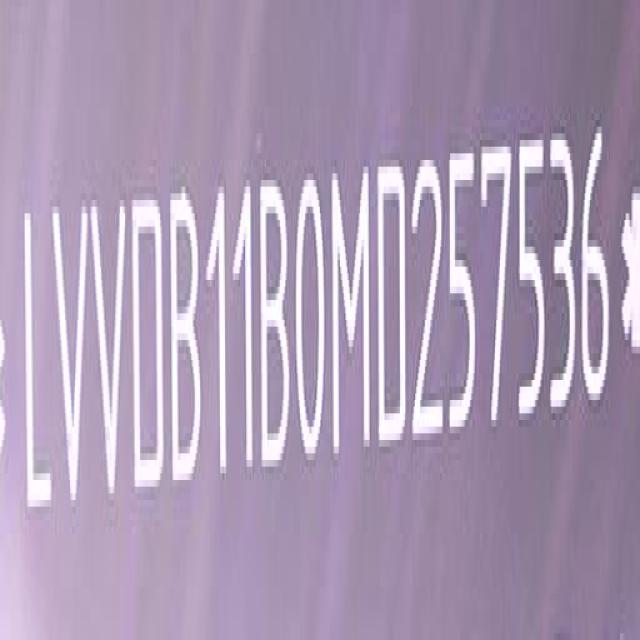0: (296, 170, 329, 471)
1: (208, 184, 233, 488), (236, 179, 256, 485)
2: (412, 152, 446, 458)
3: (551, 130, 580, 424)
5: (448, 145, 480, 446), (515, 131, 547, 430)
6: (581, 120, 616, 406)
7: (482, 140, 513, 439)
B: (172, 187, 205, 493), (260, 173, 292, 476)
D: (132, 189, 168, 500), (377, 157, 411, 460)
L: (20, 202, 54, 528)
M: (331, 161, 373, 469)
V: (92, 193, 130, 515), (52, 195, 89, 520)
